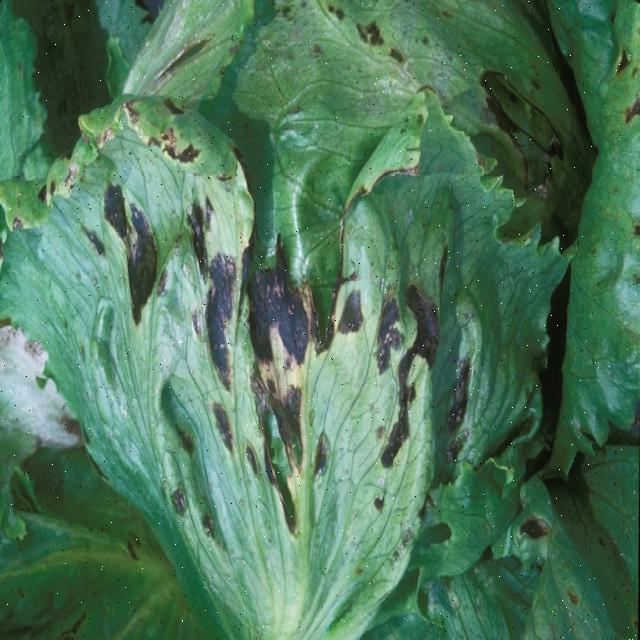Bacterial: (126, 136, 449, 539)
